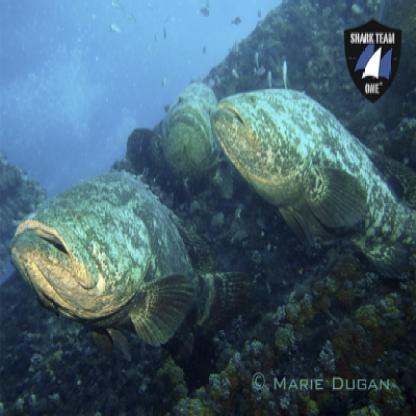Serranidae -Groupers-: (8, 158, 246, 347), (211, 86, 416, 283), (129, 59, 214, 187)
